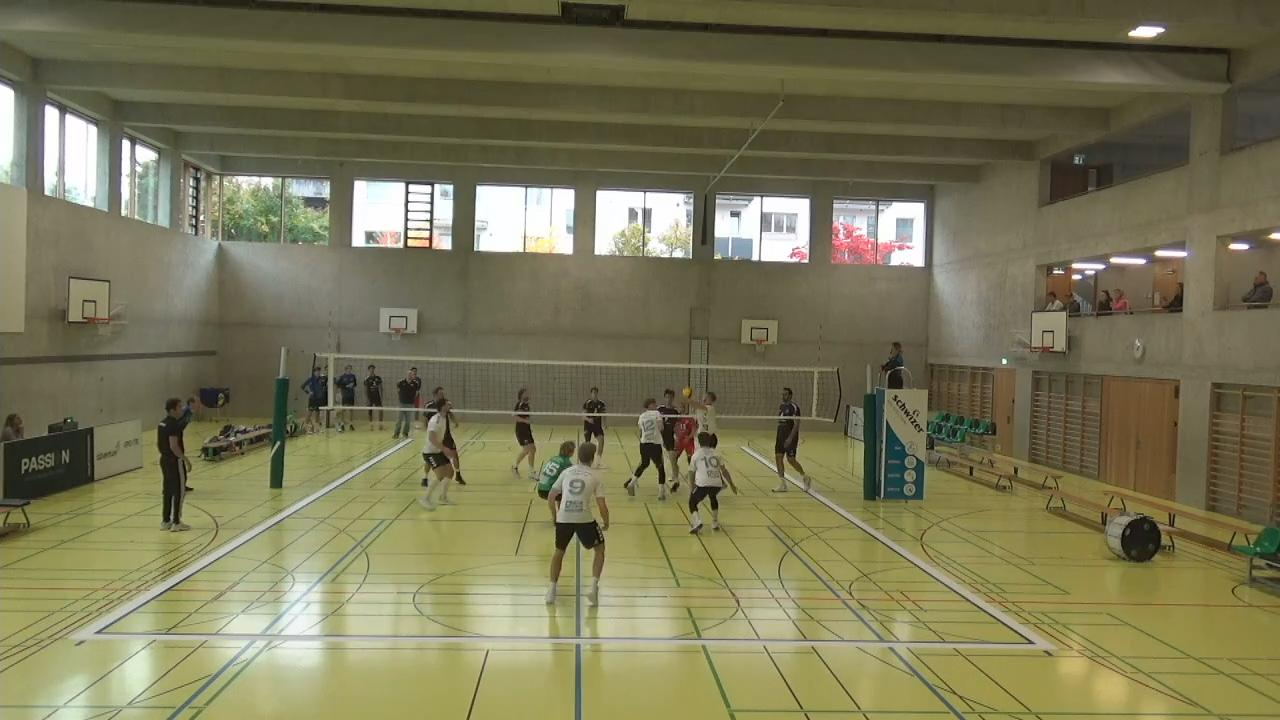difesa: (691, 384, 719, 438)
